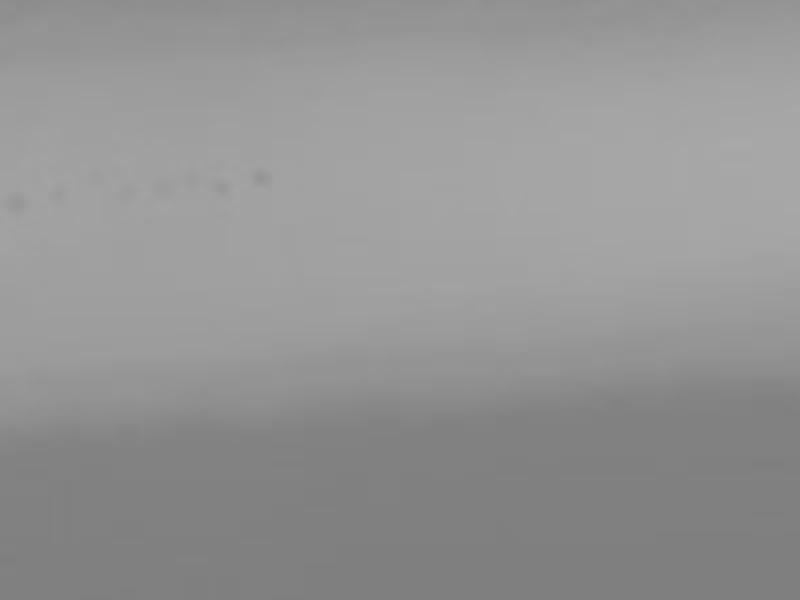defect: (150, 175, 174, 199), (6, 191, 27, 212), (253, 169, 271, 187), (50, 185, 68, 203), (213, 177, 230, 194), (119, 179, 136, 196)
